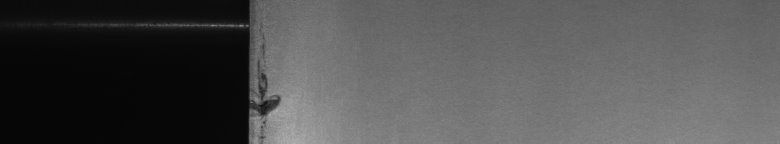hb: (260, 29, 288, 136)
